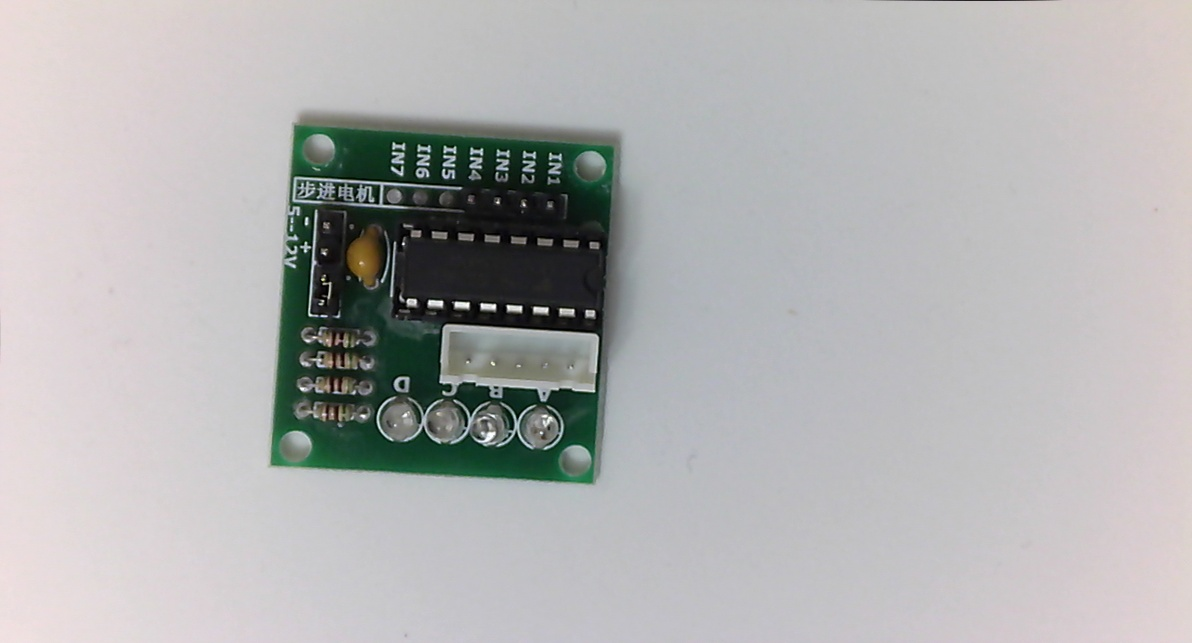uln2003: (267, 117, 618, 493)
